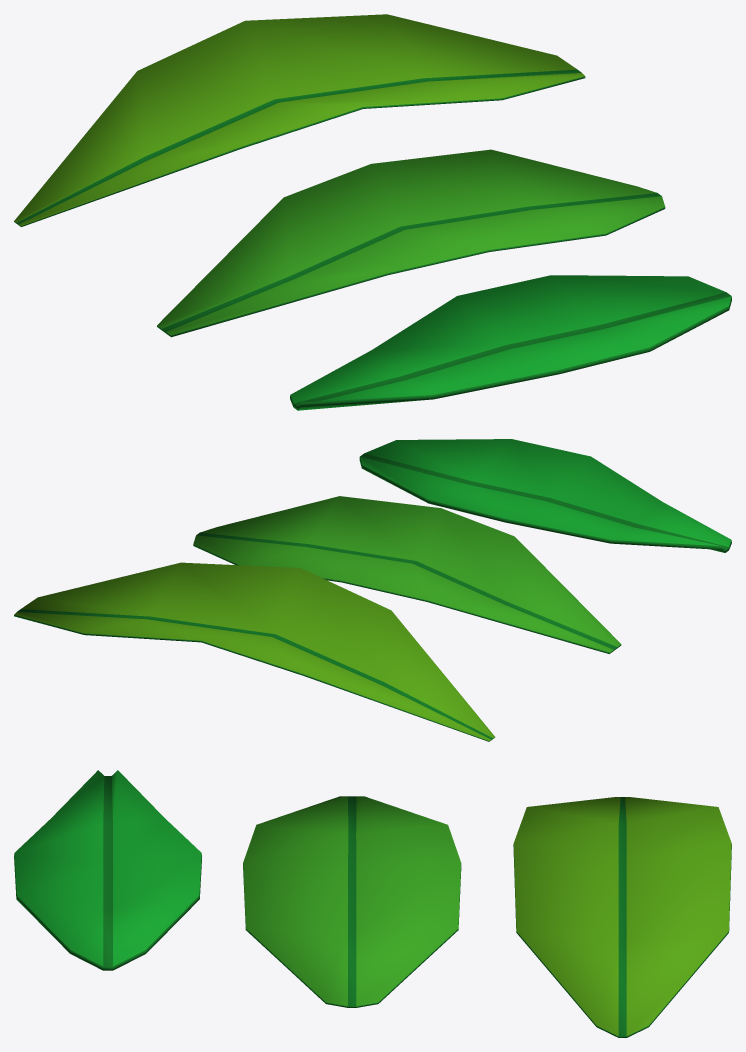
The model's file is leaves.fbx.
3 views of the same model, one above another, from view 1: azimuth 30°, elevation 25°; view 2: azimuth 150°, elevation 25°; view 3: azimuth 270°, elevation 25° (orthographic). The views are drawn at different scales.
Parts seen in each view (by area): view 1: Plane.002, Plane.001, Plane; view 2: Plane.002, Plane.001, Plane; view 3: Plane.002, Plane.001, Plane.
Boxes of the visible parts, box(x1,y1,x2,y2) form: Plane.002: box(14, 14, 585, 226); Plane.001: box(157, 149, 665, 337); Plane: box(290, 275, 731, 410); Plane.002: box(14, 562, 495, 741); Plane.001: box(193, 496, 621, 653); Plane: box(359, 439, 731, 552); Plane.002: box(513, 797, 731, 1037); Plane.001: box(243, 796, 461, 1007); Plane: box(14, 770, 201, 970).
Bounding box in the file's own units: 0.2394 × 0.0371 × 0.2862.
